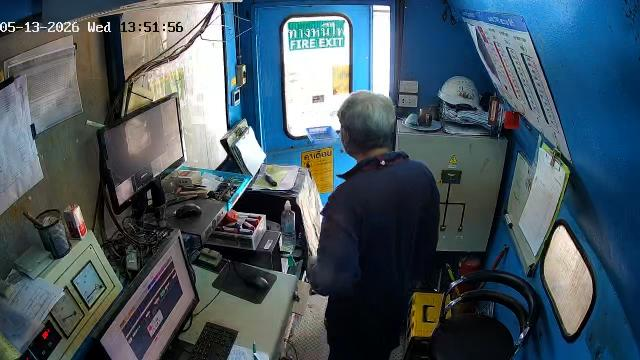Head: (338, 91, 395, 160)
People: (311, 92, 439, 359)
